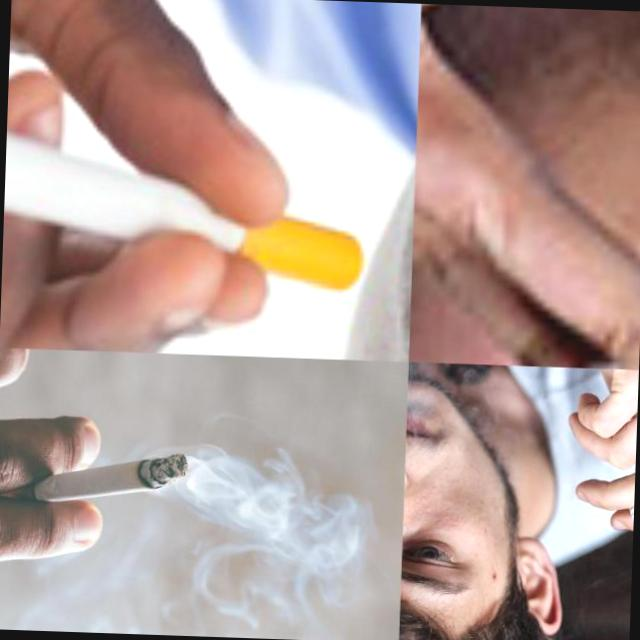cigarette: (1, 113, 370, 294), (0, 443, 188, 509), (528, 307, 640, 369), (623, 492, 634, 552)
